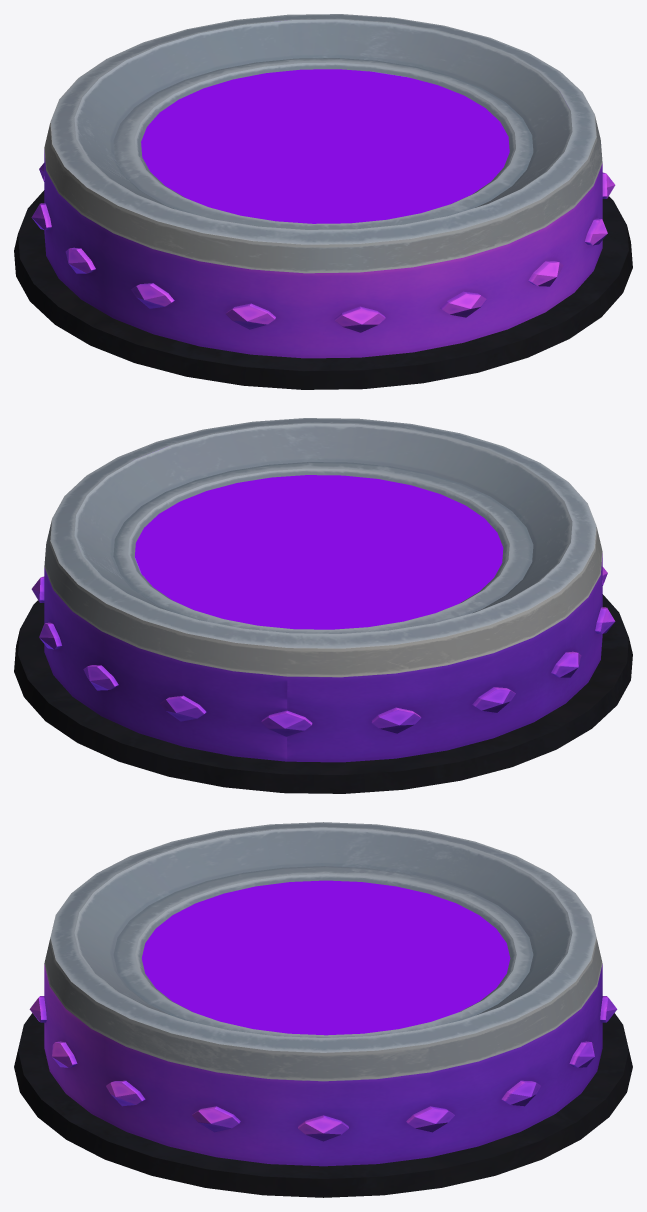
The model's file is LaserBase4.glb.
3 views of the same model, one above another, from view 1: azimuth 30°, elevation 25°; view 2: azimuth 150°, elevation 25°; view 3: azimuth 270°, elevation 25° (orthographic).
Parts seen in each view (by area): view 1: Laser Base4; view 2: Laser Base4; view 3: Laser Base4.
Boxes of the visible parts, left/top/right/bottom form: Laser Base4: left=14, top=14, right=632, bottom=389; Laser Base4: left=14, top=418, right=632, bottom=793; Laser Base4: left=14, top=822, right=632, bottom=1197.
Bounding box in the file's own units: 2.22 × 0.5303 × 2.22.
Materials: 1 (1 with a texture image).
